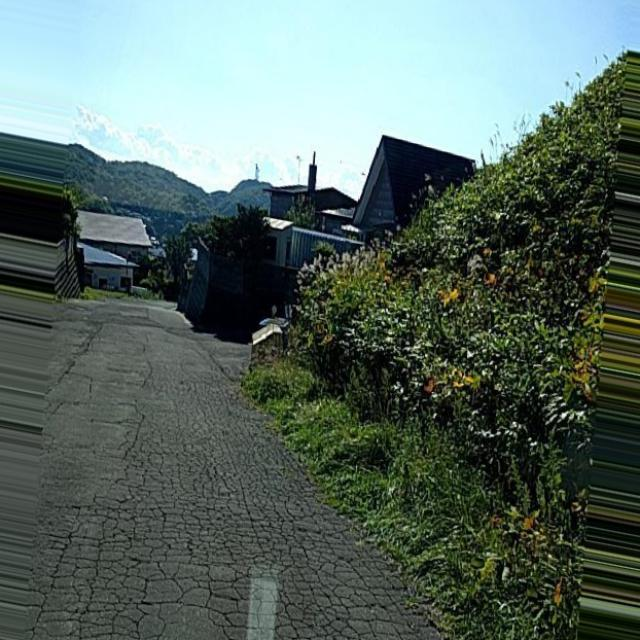Retak Buaya: (34, 363, 453, 640)
